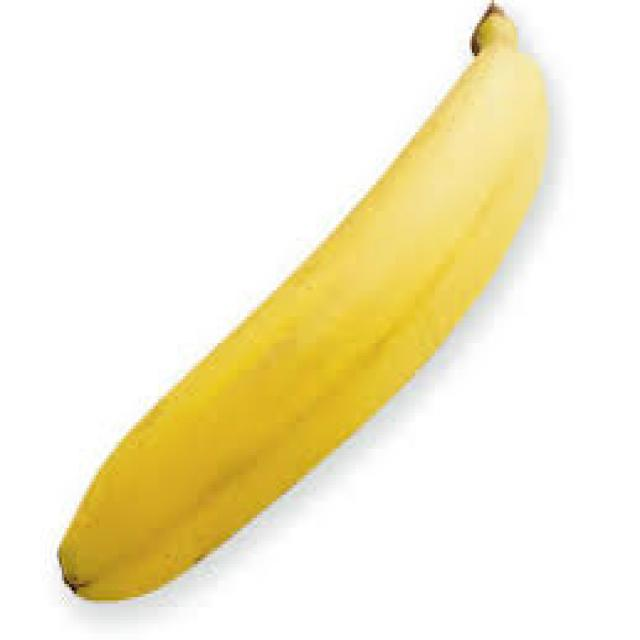organic waste: (56, 3, 544, 594)
